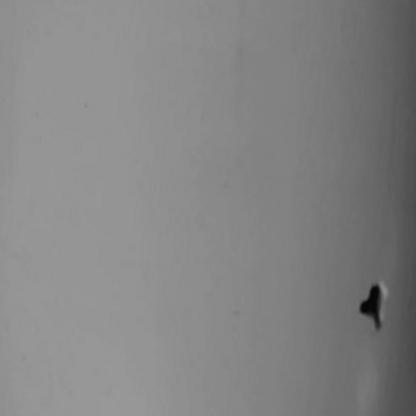kongdong: (351, 272, 391, 338)
